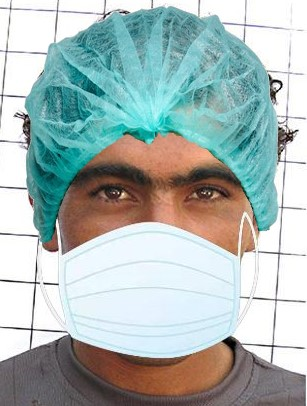with_mask_and_cap: (26, 11, 277, 355)
